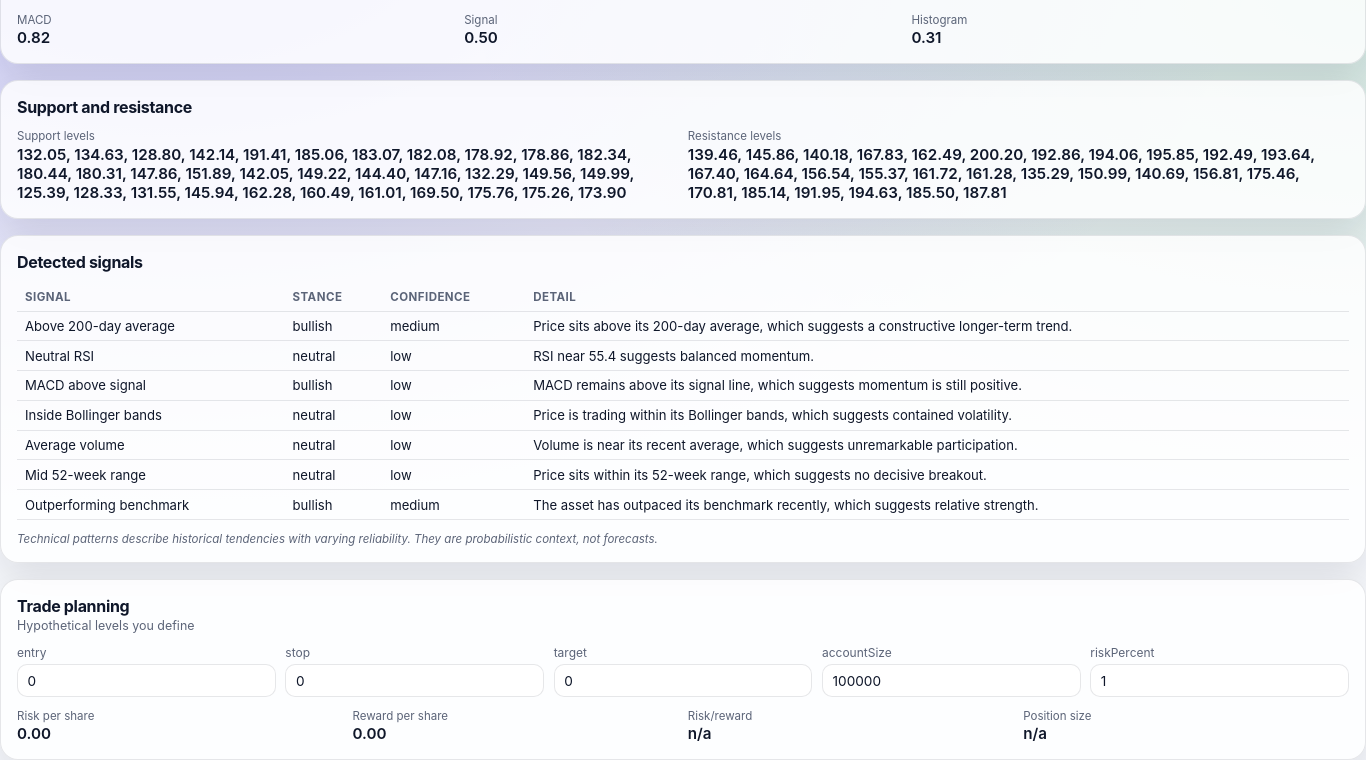
Test case: CompanyTechnicals › computes a trade plan and handles entry === stop
The image size is (1366, 760).
(page scrolled)
expect the text "n/a" below "Position size" is shown: met, box [1023,724,1047,743]
Step 1. Replace the text in the number field labelled "entry" with "100" → (146, 681), box [17,664,276,697]
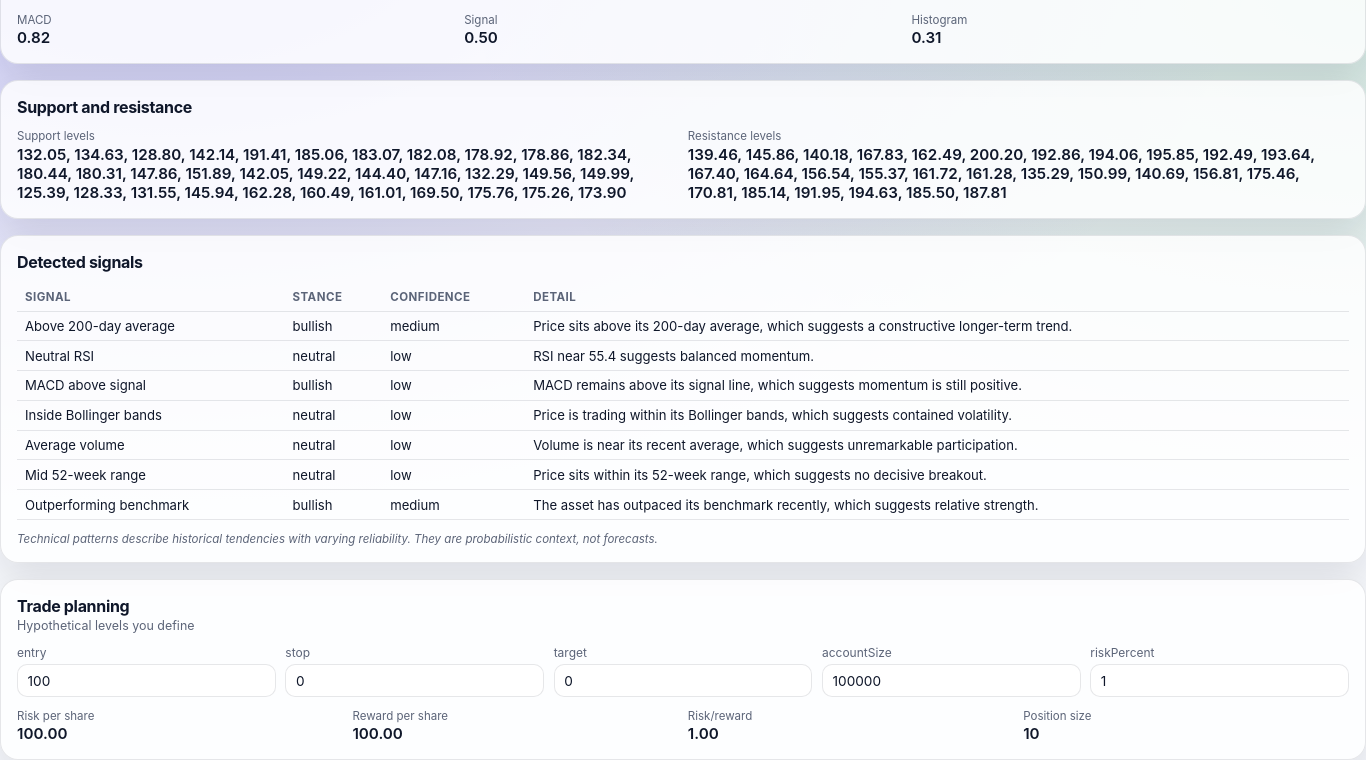
Step 2. Replace the text in the number field labelled "stop" with "90" → (415, 681), box [285,664,544,697]
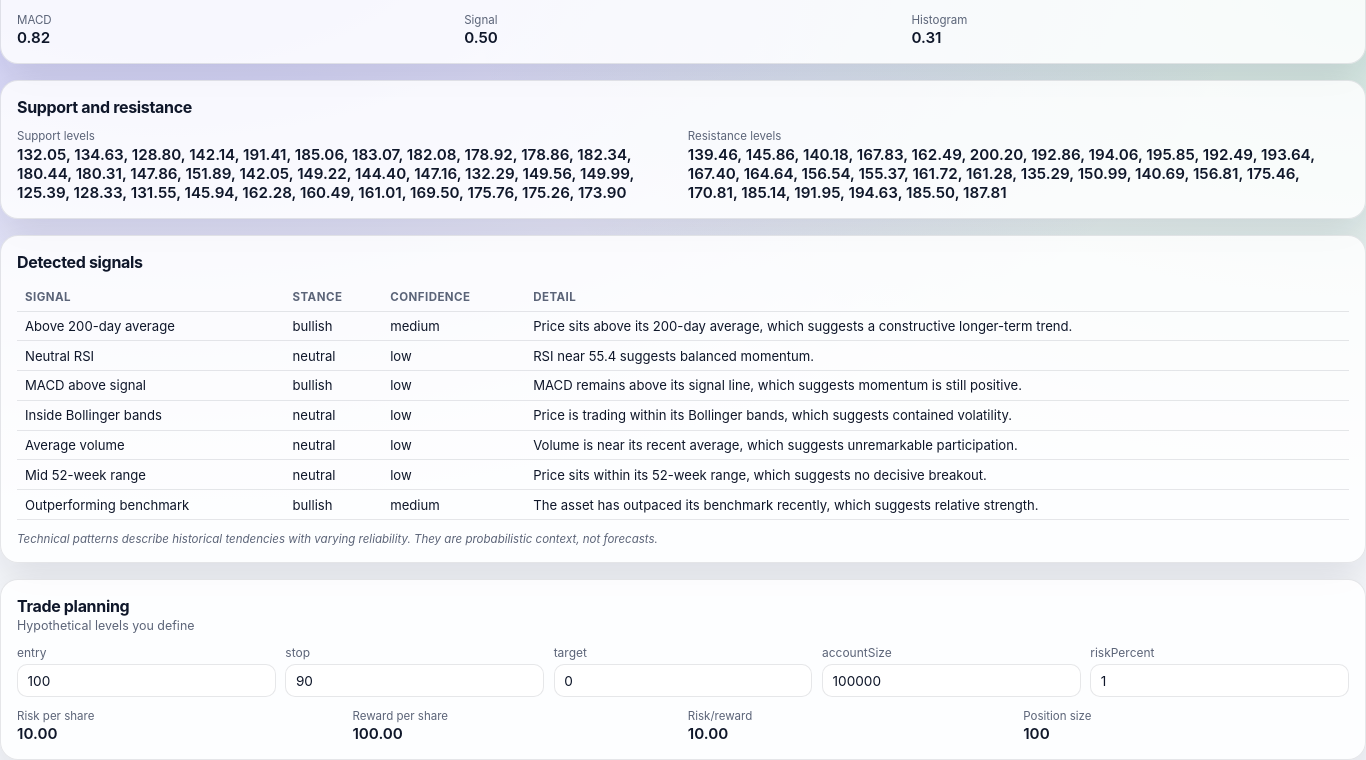
Step 3. Replace the text in the number field labelled "target" with "120" → (683, 681), box [554,664,812,697]
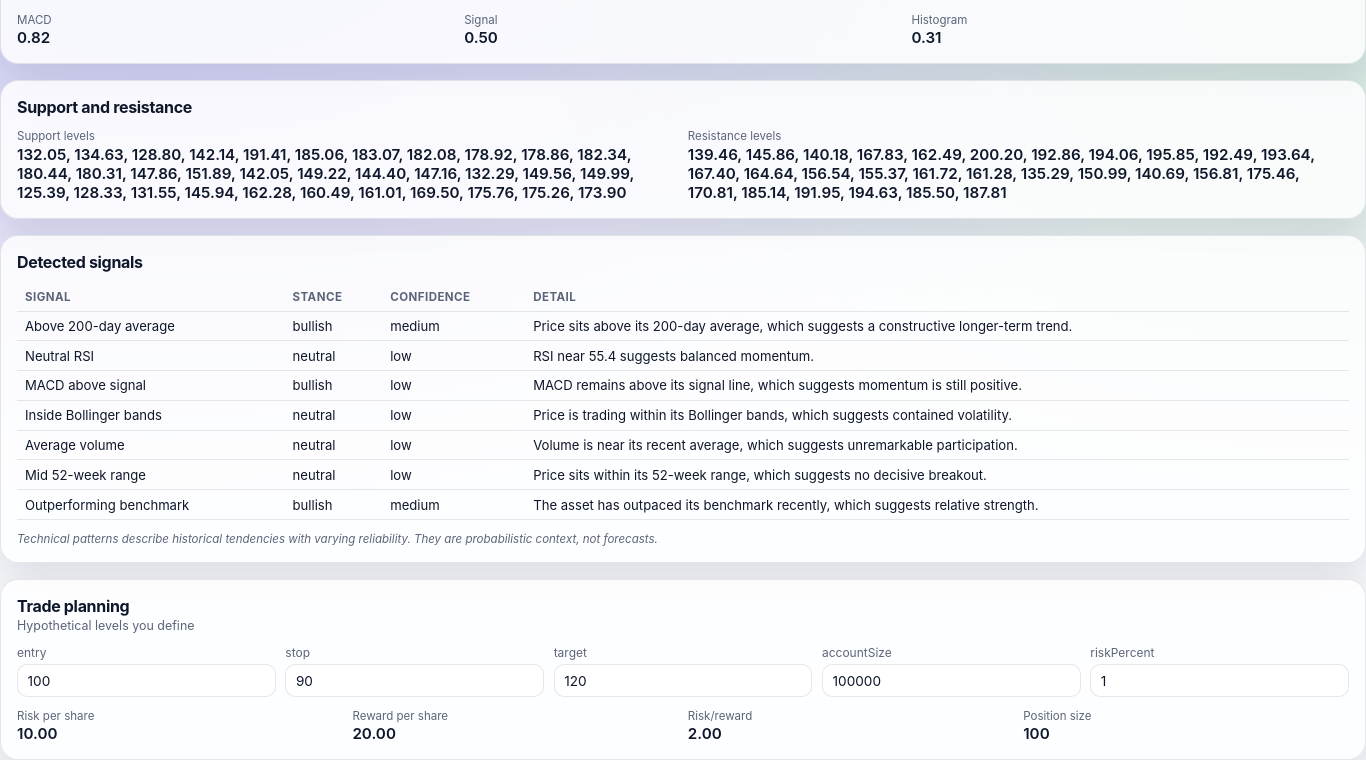
Step 4. Replace the text in the number field labelled "accountSize" with "50000" → (951, 681), box [822,664,1081,697]
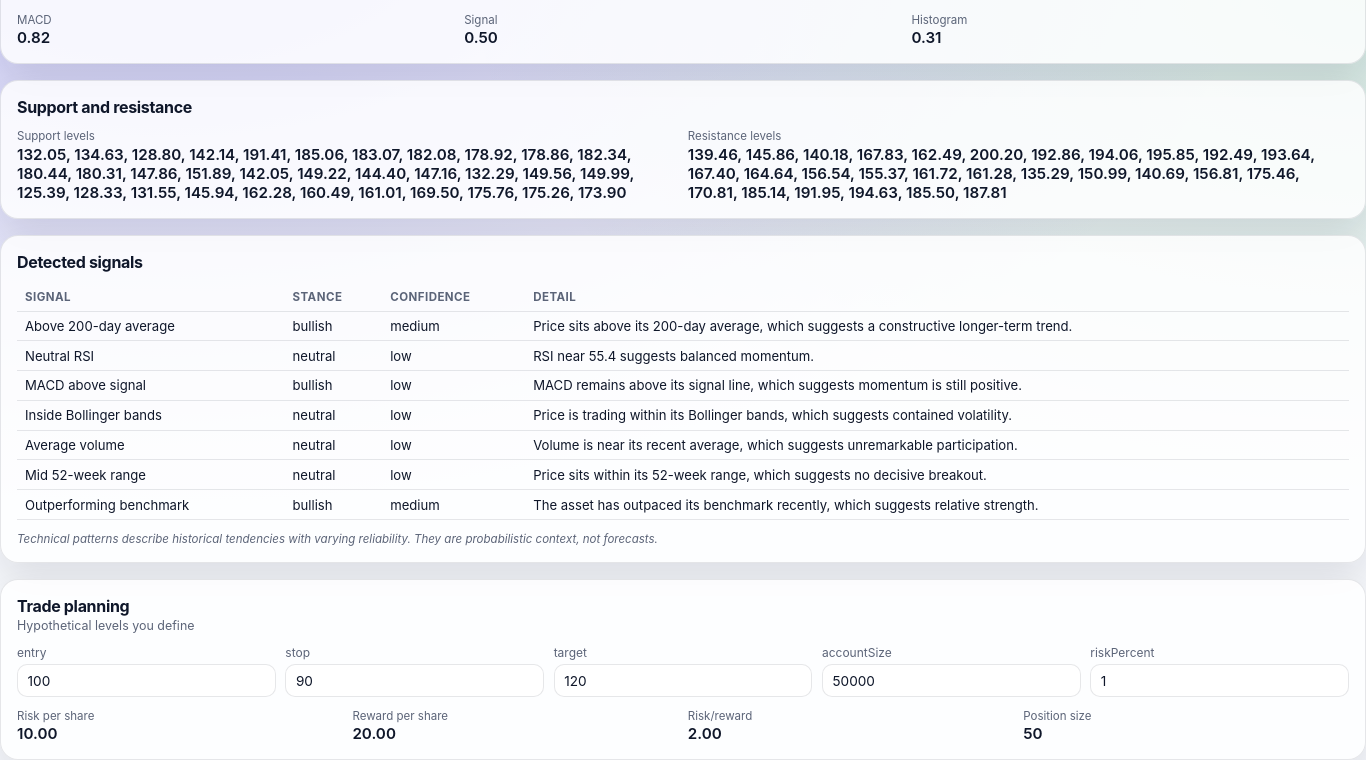
Step 5. Replace the text in the number field labelled "riskPercent" with "2" → (1220, 681), box [1090,664,1349,697]
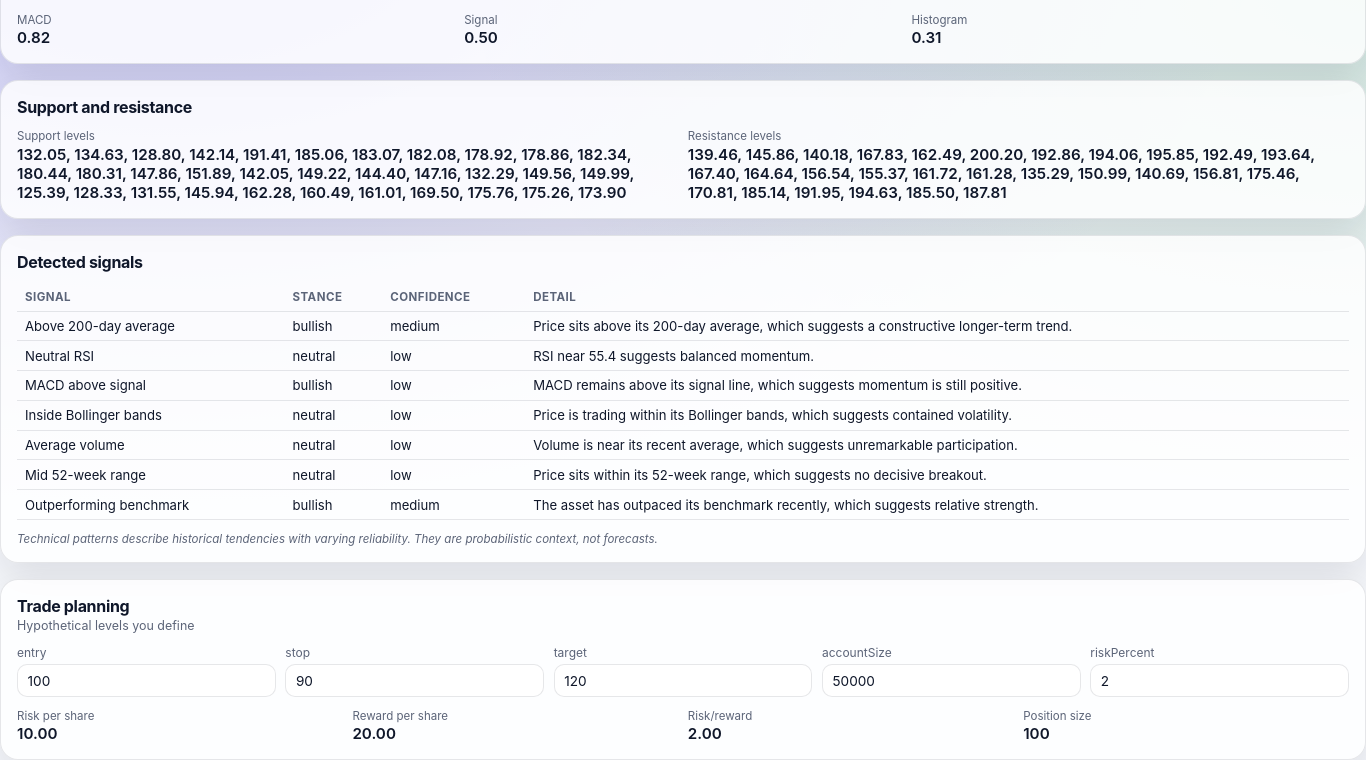
expect the text "n/a" is not shown: met
Note: Set the stop equal to entry to hit the null risk/reward branch again.
Step 6. Replace the text in the number field labelled "stop" with "100" → (415, 681), box [285,664,544,697]
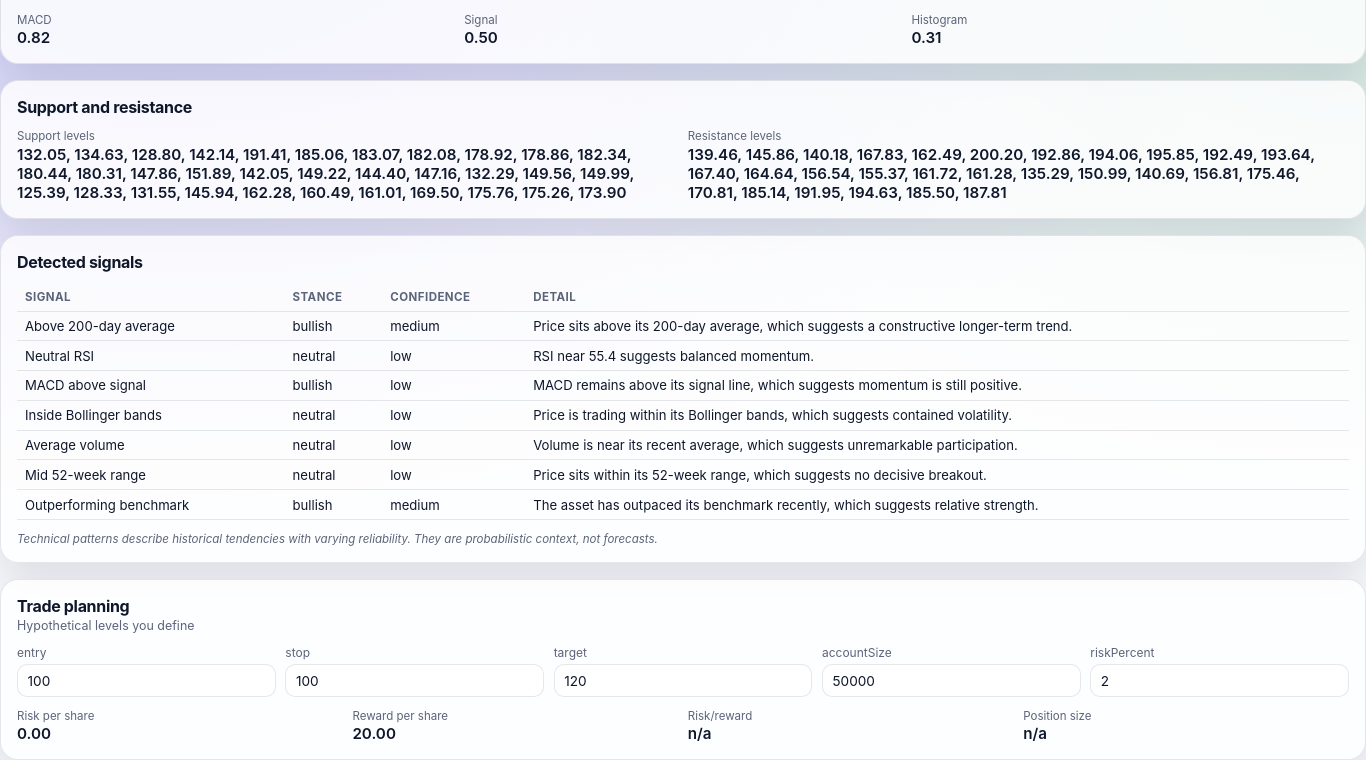
expect the text "n/a" below "Position size" is shown: met, box [1023,724,1047,743]
